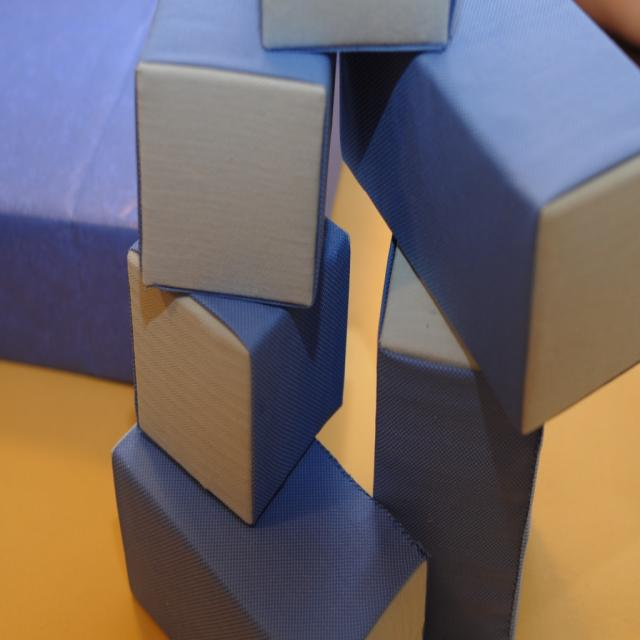Box: (111, 1, 640, 640), (0, 0, 343, 383)
